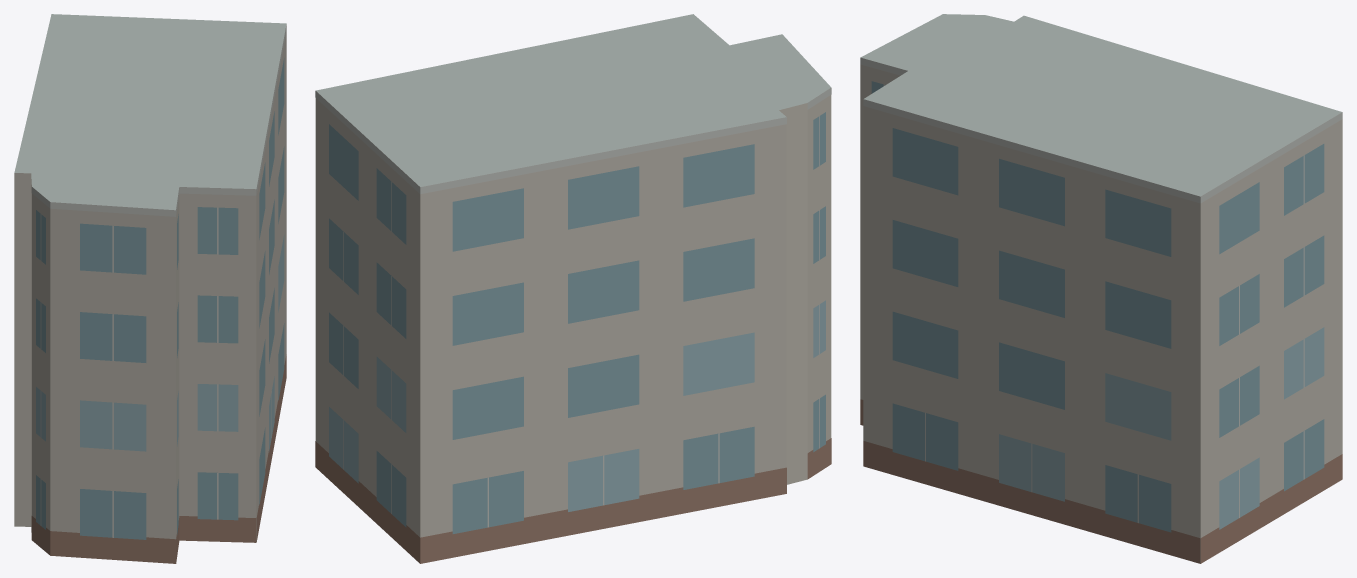
File: survey-upis-32985631.glb
3 renders of one model, left to right at view 1: azimuth 30°, elevation 25°; view 2: azimuth 150°, elevation 25°; view 3: azimuth 270°, elevation 25°, orthographic. The views are drawn at different scales.
Parts seen in each view (by area): view 1: survey-upis-32985631.tmp; view 2: survey-upis-32985631.tmp; view 3: survey-upis-32985631.tmp.
Boxes of the visible parts, bbox=[...] form: survey-upis-32985631.tmp: bbox=[14, 14, 286, 563]; survey-upis-32985631.tmp: bbox=[315, 14, 831, 563]; survey-upis-32985631.tmp: bbox=[860, 14, 1342, 563].
Bounding box in the file's own units: 13.87 × 13 × 15.48.
